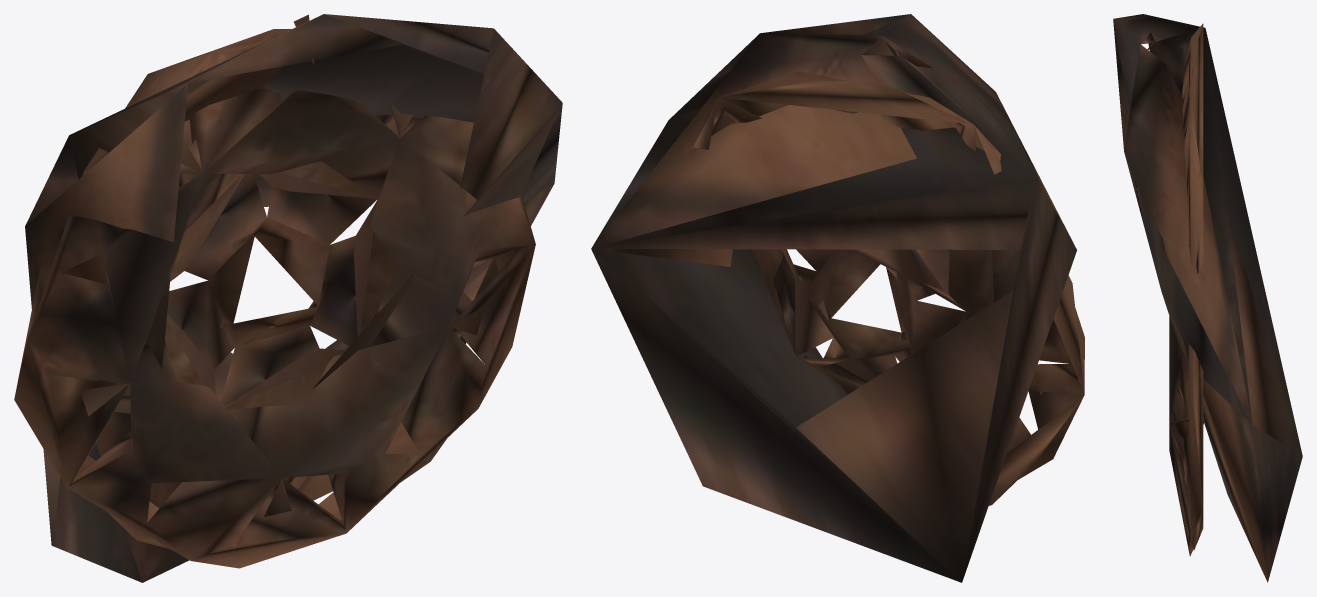
The model's file is yardprop_rusted_wheel_rim_01.glb.
3 views of the same model, side by side, from view 1: azimuth 30°, elevation 25°; view 2: azimuth 150°, elevation 25°; view 3: azimuth 270°, elevation 25° (orthographic). The views are drawn at different scales.
Visible parts, largest first — view 1: rusted_wheel_rim_01; view 2: rusted_wheel_rim_01; view 3: rusted_wheel_rim_01.
Part boxes in pixels (x1=…): rusted_wheel_rim_01: x1=14, y1=14, x2=562, y2=582; rusted_wheel_rim_01: x1=591, y1=14, x2=1084, y2=582; rusted_wheel_rim_01: x1=1113, y1=14, x2=1302, y2=582.
Bounding box in the file's own units: 0.3868 × 0.382 × 0.1245.
1 material, 1 textured.
